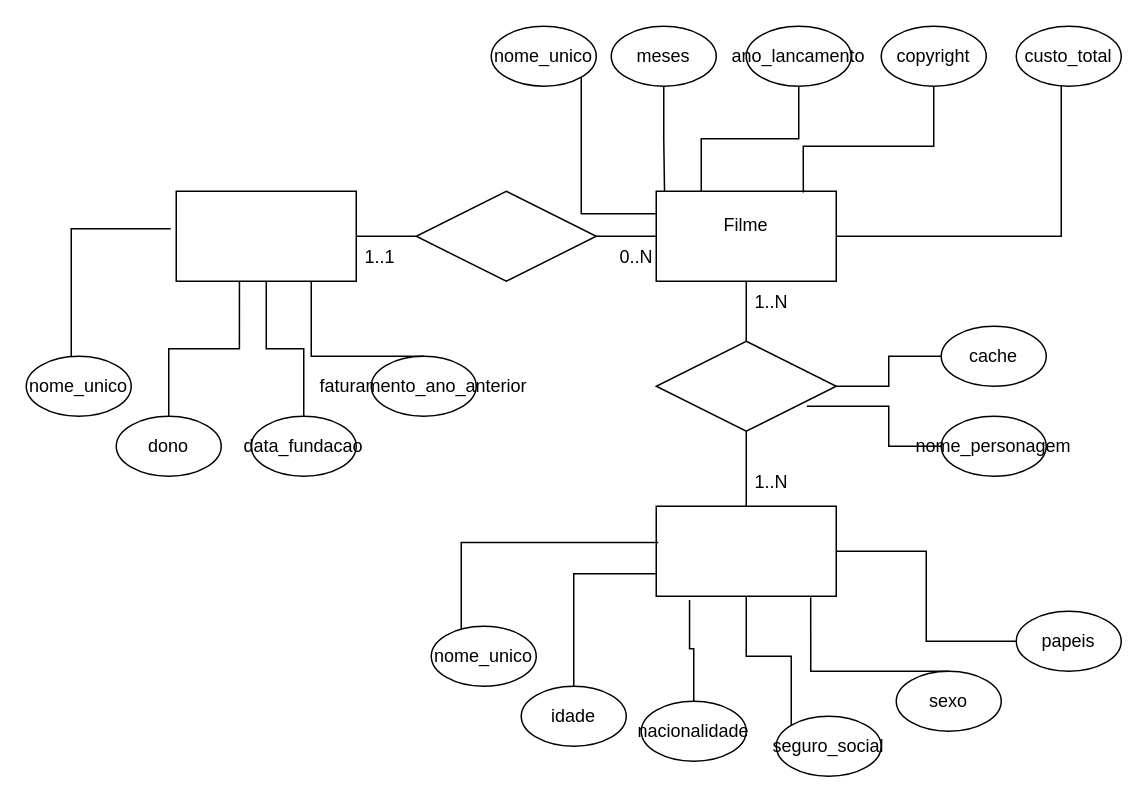
The diagram is 1148 pixels wide and 803 high, and some of its shapes have lost their labels. The centre of each missing label's shape, as x and y in pixels:
"Ator" goes at pixel 745 550.
"atua" goes at pixel 745 385.
"Estúdio" goes at pixel 265 235.
"produz" goes at pixel 505 235.
